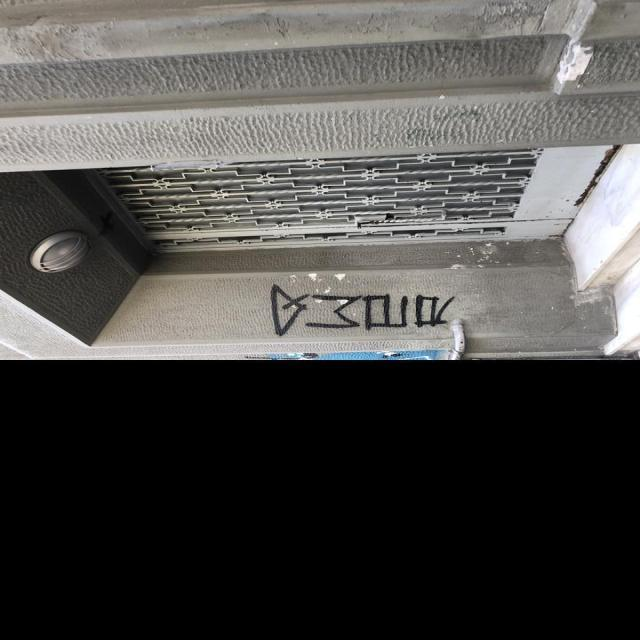nonspitting: (270, 282, 457, 338)
